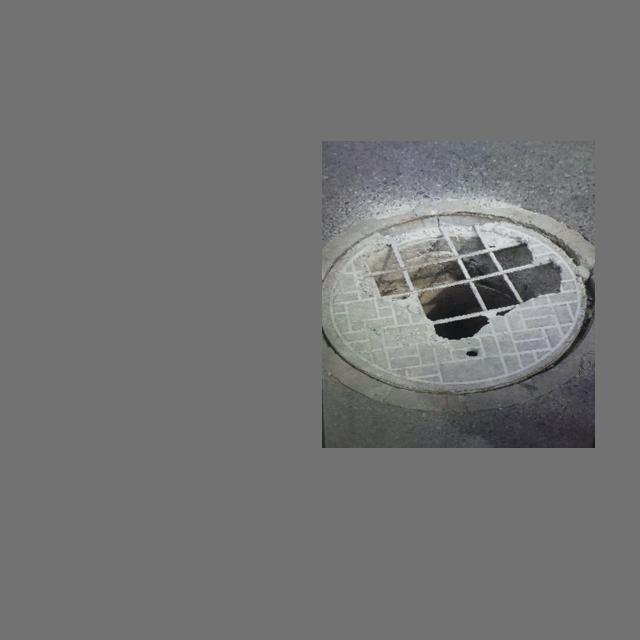broke: (325, 185, 590, 407)
